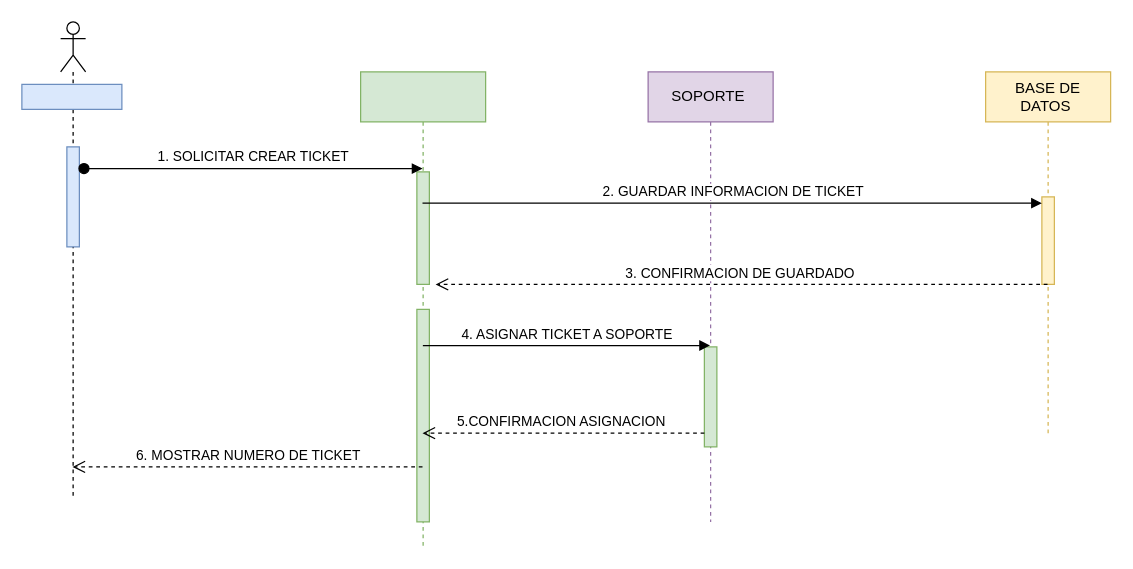
Some shapes in this 1133 by 569 pixel diagram are drawn without their labels. The box of each missing label's shape, as (x1, y1, x2, y2) in pixels:
SISTEMA: (359, 71, 486, 547)
USUARIO: (21, 83, 122, 109)
